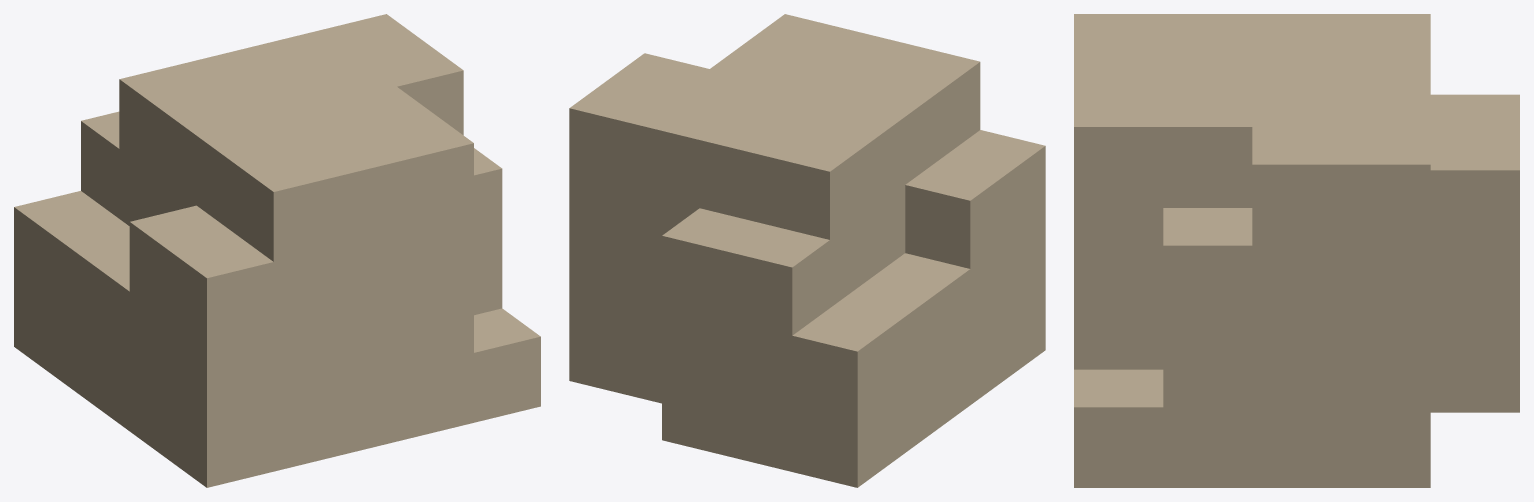
The model's file is BS_Stone_4.fbx.
The picture shows the model from 3 angles, left to right: view 1: azimuth 30°, elevation 25°; view 2: azimuth 150°, elevation 25°; view 3: azimuth 270°, elevation 25°; orthographic projection. The views are drawn at different scales.
Parts seen in each view (by area): view 1: BS_Stone_4; view 2: BS_Stone_4; view 3: BS_Stone_4.
Part boxes in pixels (x1=…): BS_Stone_4: x1=14, y1=14, x2=540, y2=487; BS_Stone_4: x1=569, y1=14, x2=1045, y2=487; BS_Stone_4: x1=1074, y1=14, x2=1519, y2=487.
Bounding box in the file's own units: 12.5 × 12.5 × 10.
